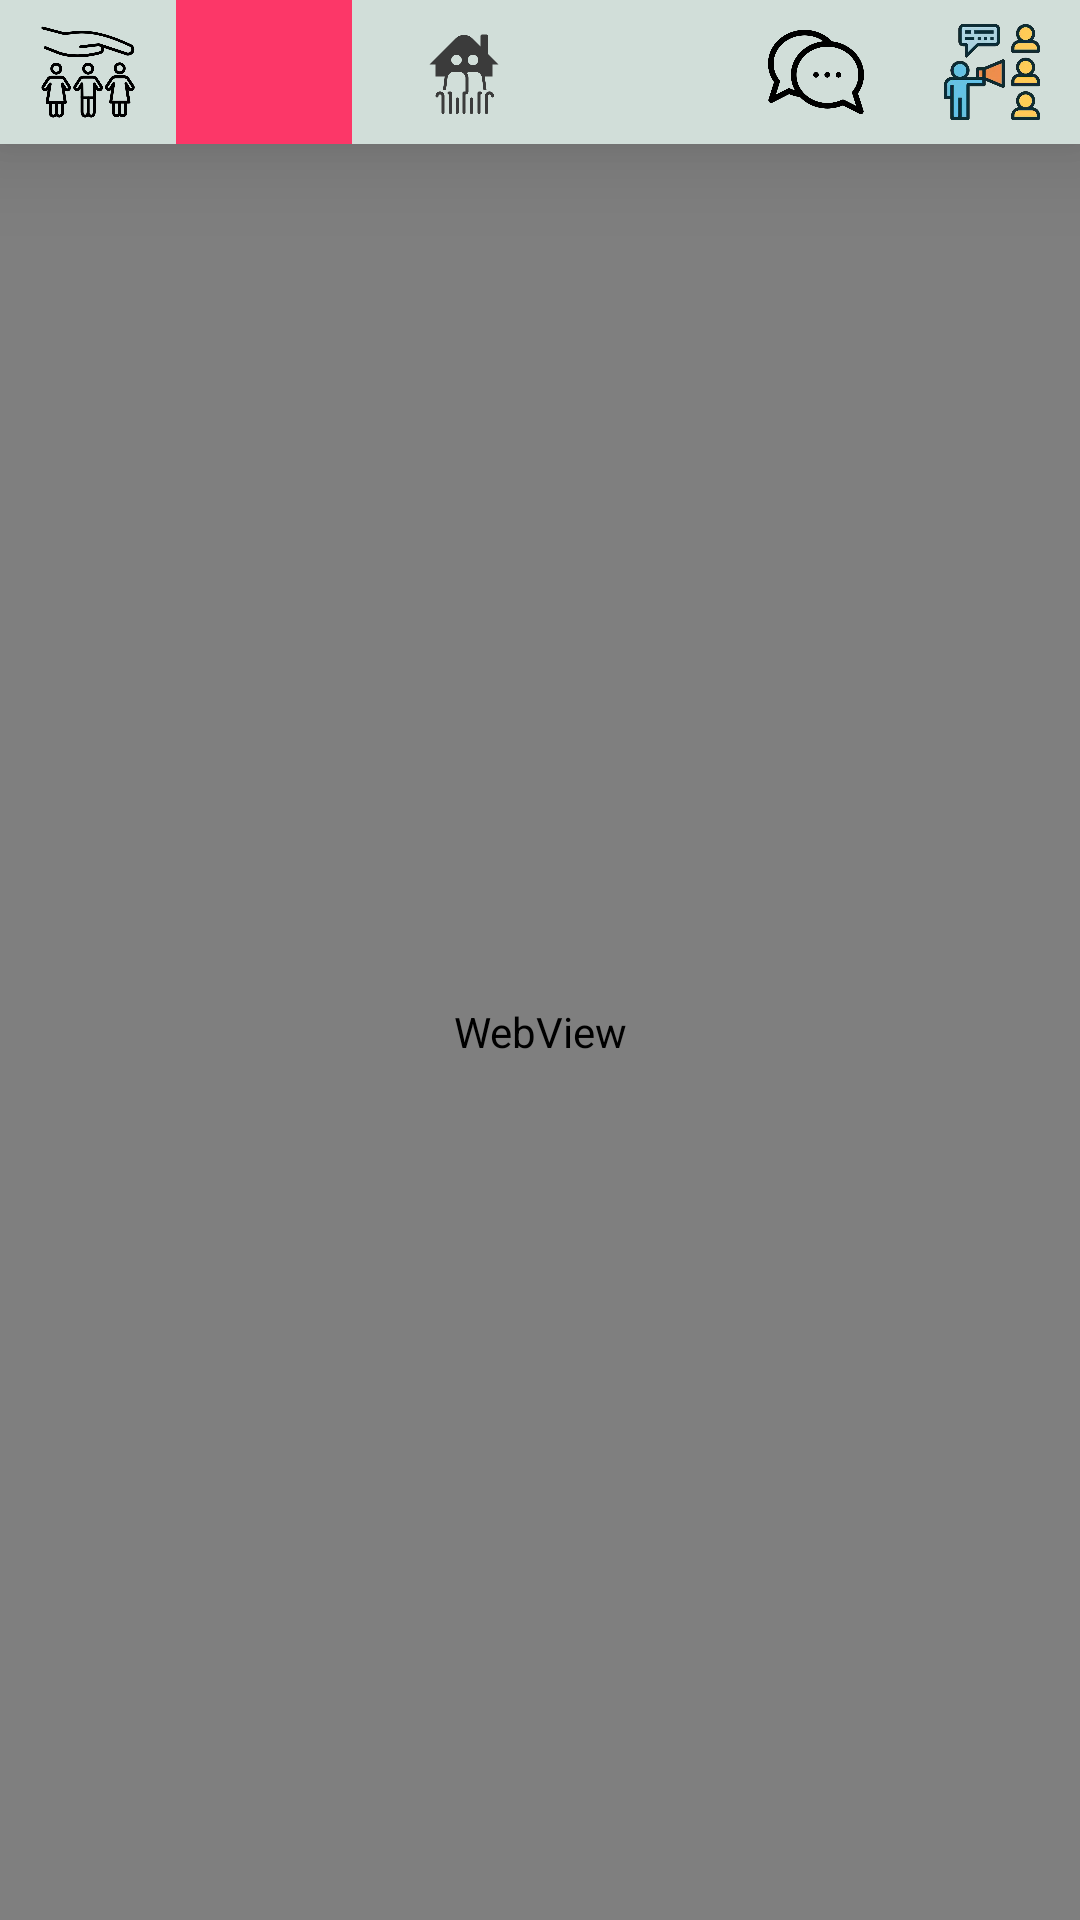

Where to tap for icons on this 1080x1920 app screen, as [x,y]:
announcement: [992,72]
bubble chat: [816,72]
orphan: [88,72]
